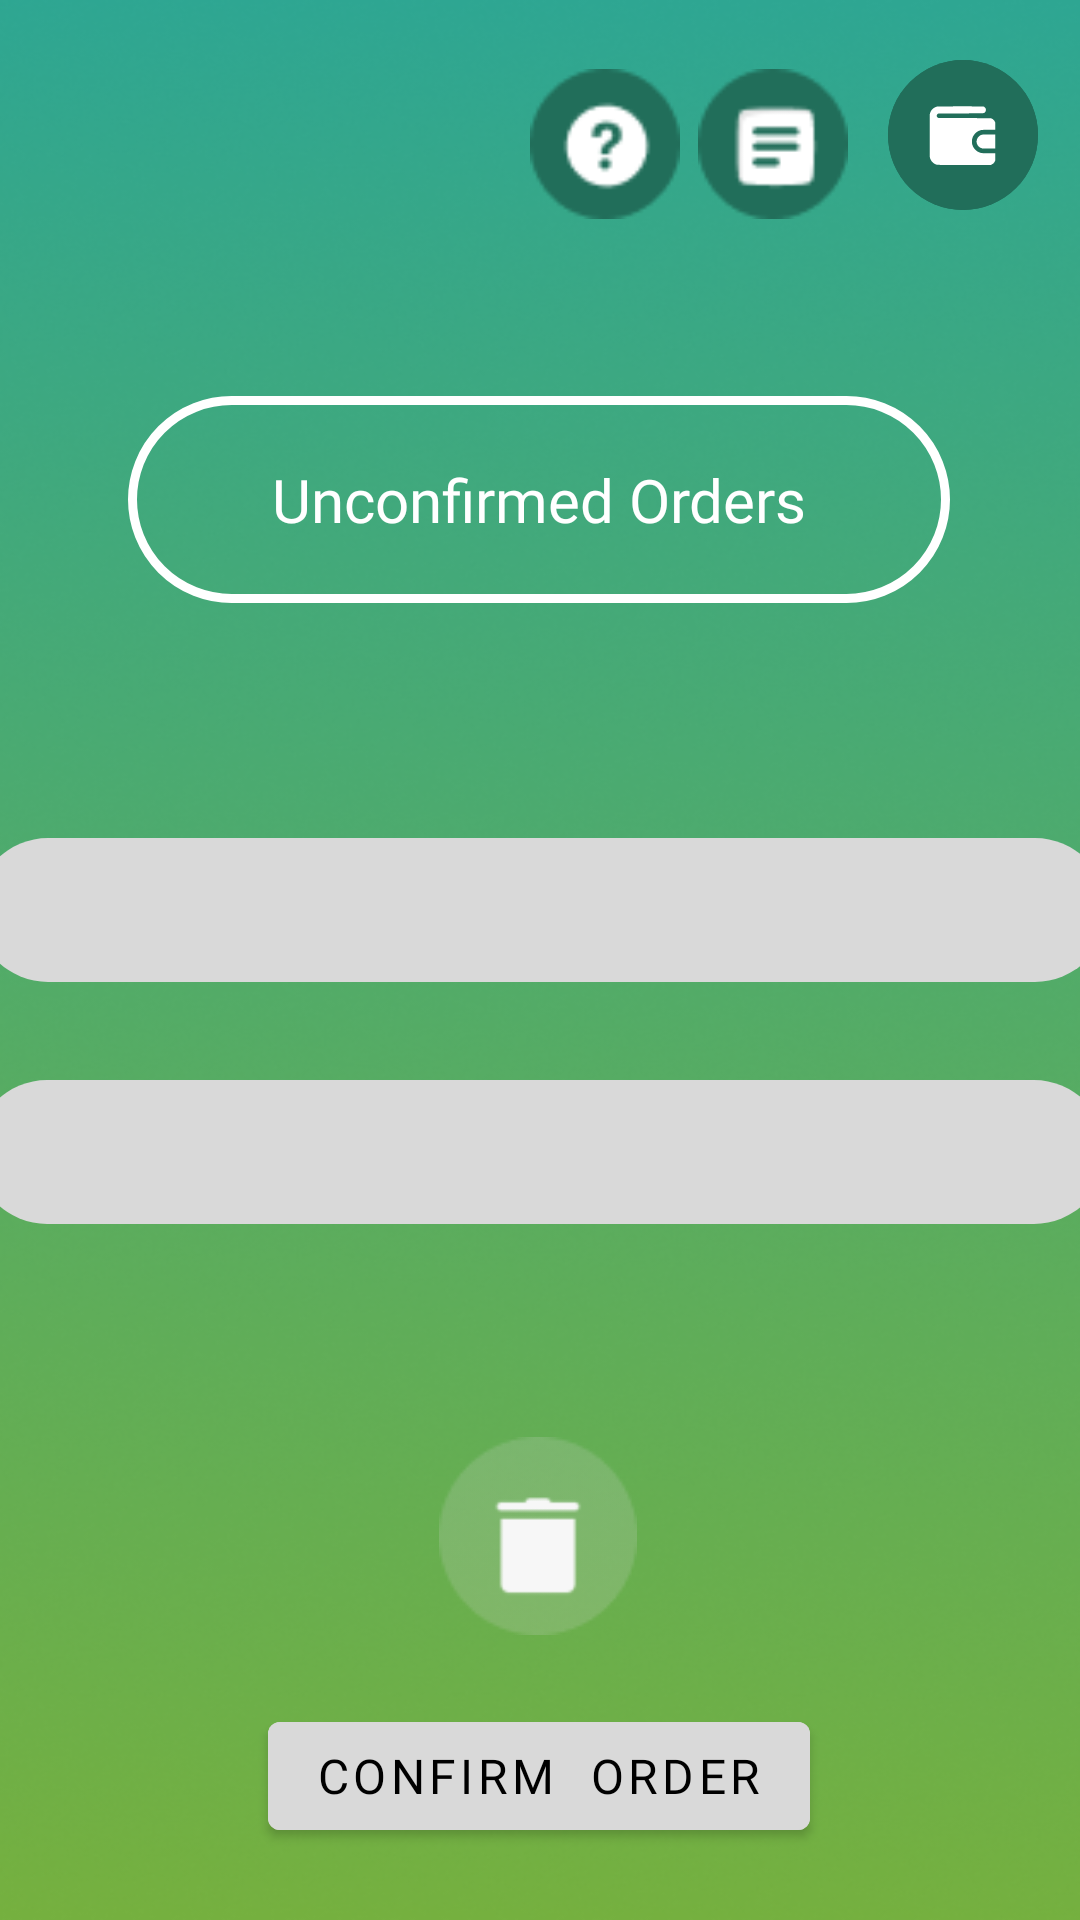

Screen size 1080px x 1920px. Icon name, then its center in pixels as point (x, y):
helpicon: point (605, 144)
orderhistoryicon: point (773, 144)
trash: point (538, 1545)
wallet: point (963, 135)
